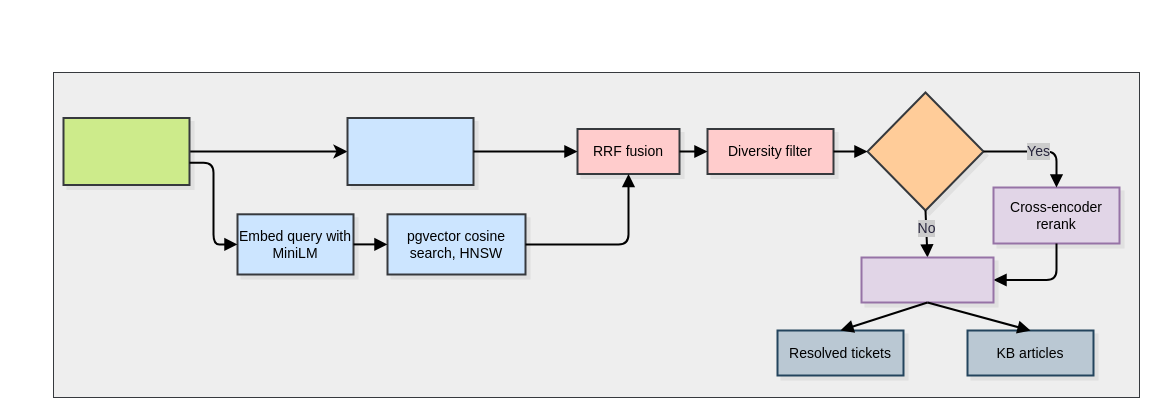
Image size: 1157x415. Some labels were removed from this diagram. The centre of each missing label's shape, as x and y in pixels:
PostgreSQL full-text search: the point at 412,153
Reranker enabled?: the point at 927,153
Structured analysis and query: the point at 128,153
Top-k evidence: the point at 929,281
